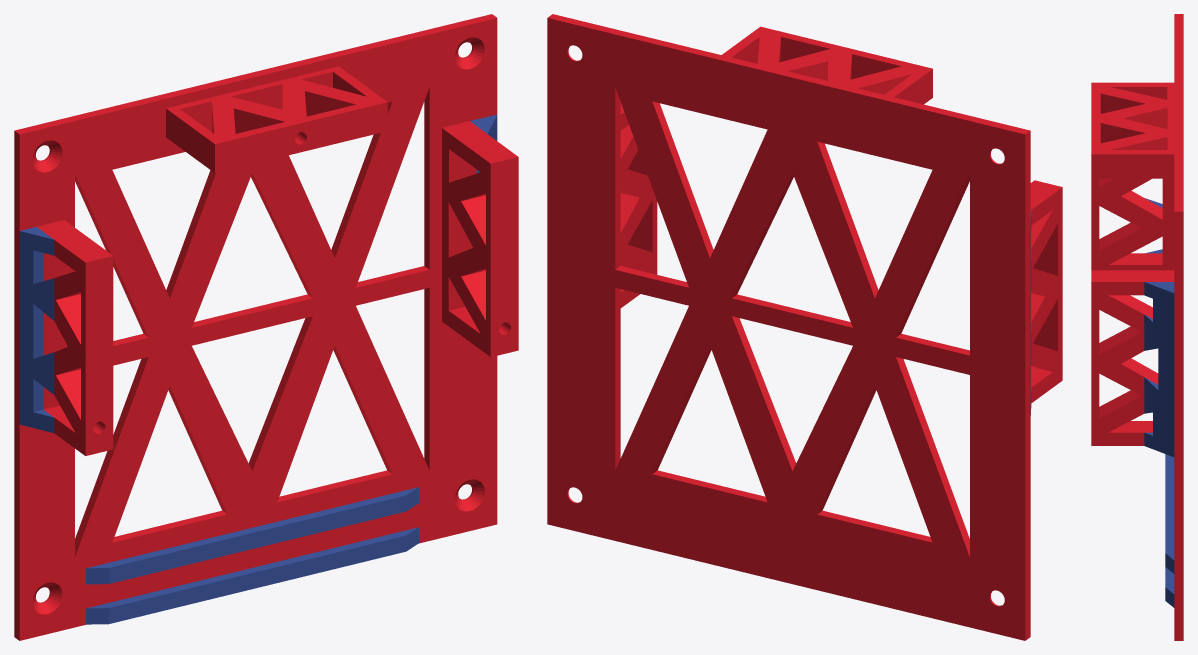
Rendered from tinker.obj.
The picture shows the model from 3 angles, left to right: view 1: azimuth 30°, elevation 25°; view 2: azimuth 150°, elevation 25°; view 3: azimuth 270°, elevation 25°; orthographic projection. The views are drawn at different scales.
Parts seen in each view (by area): view 1: group_0_15277357, group_0_3888547; view 2: group_0_15277357; view 3: group_0_15277357, group_0_3888547.
Part boxes in pixels (x1,y1,x2,y2): group_0_15277357: [14, 14, 518, 640]; group_0_3888547: [19, 114, 497, 624]; group_0_15277357: [547, 14, 1062, 640]; group_0_15277357: [1091, 14, 1183, 640]; group_0_3888547: [1144, 198, 1174, 607].
Bounding box in the file's own units: 155 × 157 × 30.5.
